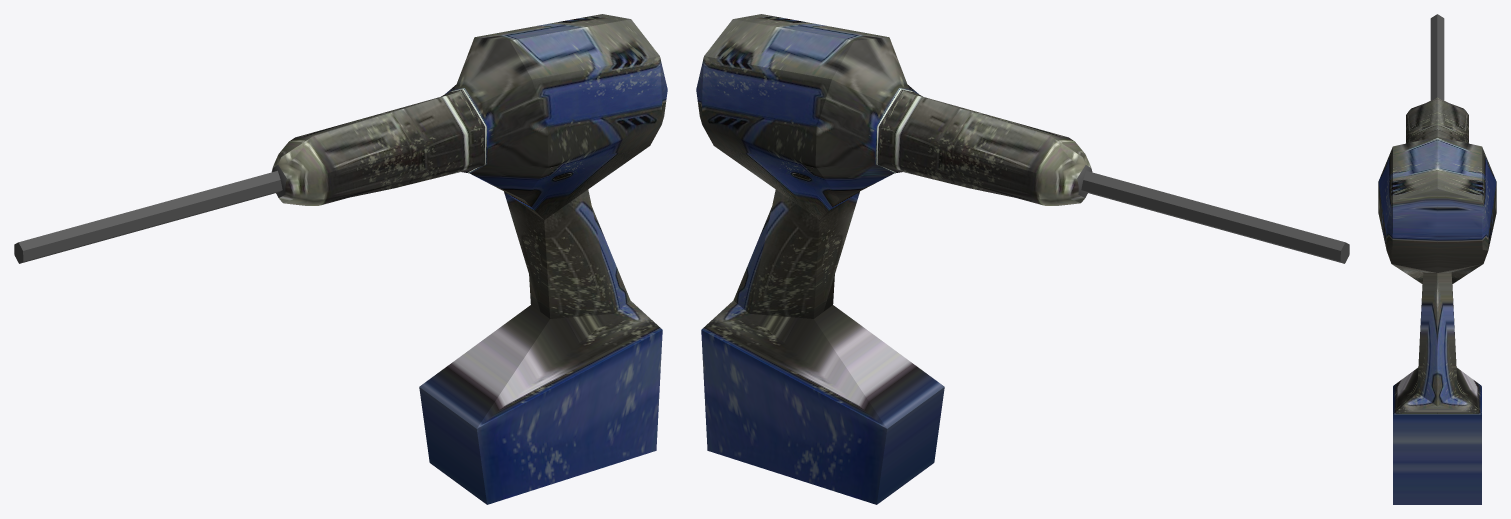
Rendered from drill_test.glb.
3 renders of one model, left to right at view 1: azimuth 30°, elevation 25°; view 2: azimuth 150°, elevation 25°; view 3: azimuth 270°, elevation 25°, orthographic. The views are drawn at different scales.
Visible parts, largest first — view 1: Cube; view 2: Cube; view 3: Cube.
Boxes of the visible parts, bbox=[...] form: Cube: bbox=[14, 14, 667, 504]; Cube: bbox=[696, 14, 1349, 504]; Cube: bbox=[1378, 14, 1496, 504].
Bounding box in the file's own units: 0.8651 × 0.5729 × 0.1843.
2 materials, 1 textured.
